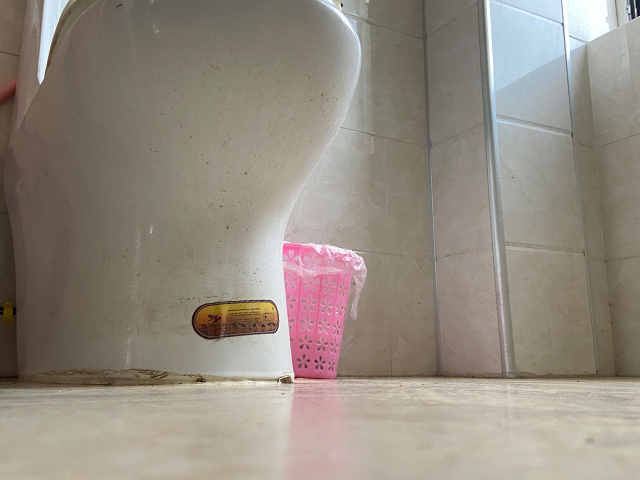closestool: (1, 1, 365, 383)
trashcan: (290, 241, 368, 380)
